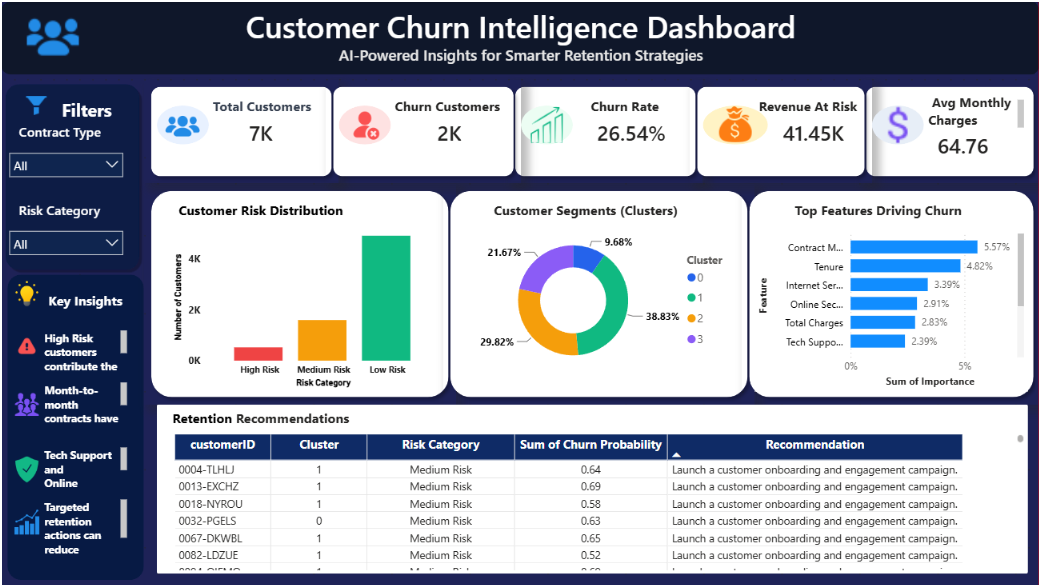

This screenshot's page, from the dashboard's own definition file:
{"tool":"powerbi","page":{"name":"Page 1","canvas":[1280,720],"ordinal":0},"visuals":[{"type":"group","id":"g1","title":"Group 1","box":[0,0,1280,96],"z":0},{"type":"shape","box":[0,0,1280,90],"z":0,"group":"g1"},{"type":"shape","box":[0,96,176,240],"z":0,"group":"g2"},{"type":"textbox","box":[0,0,1280,64],"z":1000,"group":"g1"},{"type":"group","id":"g2","title":"Group 2","box":[0,96,176,240],"z":1000},{"type":"image","box":[17.6,112,52.8,32],"z":1000,"group":"g2"},{"type":"textbox","box":[0,48,1280,48],"z":2000,"group":"g1"},{"type":"textbox","box":[70.4,96,88,80],"z":2000,"group":"g2"},{"type":"group","id":"g3","title":"Group 3","box":[0,336,176,384],"z":2000},{"type":"shape","box":[0,336,176,384],"z":2000,"group":"g3"},{"type":"image","box":[32,0,64,80],"z":3000,"group":"g1"},{"type":"shape","box":[176,96,240,128],"z":3000},{"type":"textbox","box":[17.6,144,140.8,32],"z":3000,"group":"g2"},{"type":"image","box":[16,336,32,48],"z":3000,"group":"g3"},{"type":"shape","box":[1056,96,224,128],"z":4000},{"type":"textbox","box":[17.6,240,140.8,32],"z":4000,"group":"g2"},{"type":"image","box":[16,400,32,48],"z":4000,"group":"g3"},{"type":"shape","box":[624,96,240,128],"z":5000},{"type":"slicer","fields":{"Values":["customer_clean.Contract"]},"box":[0,176,160,48],"z":5000,"group":"g2"},{"type":"image","box":[16,480,32,32],"z":5000,"group":"g3"},{"type":"shape","box":[848,96,224,128],"z":6000},{"type":"slicer","fields":{"Values":["customer_recommendations.Risk Category"]},"box":[0,272,160,48],"z":6000,"group":"g2"},{"type":"image","box":[16,624,32,32],"z":6000,"group":"g3"},{"type":"shape","box":[400,96,240,128],"z":7000},{"type":"image","box":[16,560,32,32],"z":7000,"group":"g3"},{"type":"shape","box":[192,128,64,48],"z":8000},{"type":"textbox","box":[48,352,112,32],"z":8000,"group":"g3"},{"type":"image","box":[192,128,64,48],"z":9000},{"type":"textbox","box":[48,400,112,64],"z":9000,"group":"g3"},{"type":"textbox","box":[256,112,160,48],"z":10000},{"type":"textbox","box":[48,464,112,64],"z":10000,"group":"g3"},{"type":"cardVisual","fields":{"Data":["customer_clean.Total Customers"]},"box":[272,128,96,64],"z":11000},{"type":"textbox","box":[48,608,112,80],"z":11000,"group":"g3"},{"type":"textbox","box":[480,112,144,32],"z":12000},{"type":"textbox","box":[48,544,112,64],"z":12000,"group":"g3"},{"type":"shape","box":[416,128,64,48],"z":13000},{"type":"shape","box":[864,128,80,48],"z":14000},{"type":"shape","box":[1072,128,64,48],"z":15000},{"type":"shape","box":[640,128,64,48],"z":16000},{"type":"image","box":[1072,128,64,48],"z":17000},{"type":"image","box":[416,128,64,48],"z":18000},{"type":"image","box":[640,128,64,48],"z":19000},{"type":"image","box":[880,128,48,48],"z":20000},{"type":"textbox","box":[704,112,128,48],"z":21000},{"type":"textbox","box":[928,112,160,48],"z":22000},{"type":"textbox","box":[1136,112,128,48],"z":23000},{"type":"cardVisual","fields":{"Data":["cluster_summary.Revenue at Risk"]},"box":[928,128,144,64],"z":24000},{"type":"cardVisual","fields":{"Data":["cluster_summary.Churn Rate"]},"box":[704,128,144,64],"z":25000},{"type":"cardVisual","fields":{"Data":["cluster_summary.Average monthly charges"]},"box":[1120,128,128,96],"z":26000},{"type":"cardVisual","fields":{"Data":["cluster_summary.Total Churn Customers"]},"box":[496,128,112,64],"z":27000},{"type":"shape","box":[176,224,384,272],"z":28000},{"type":"shape","box":[544,224,384,272],"z":29000},{"type":"shape","box":[912,224,368,272],"z":30000},{"type":"textbox","box":[208,240,224,32],"z":31000},{"type":"columnChart","fields":{"Category":["customer_recommendations.Risk Category"],"Y":["customer_clean.Total Customers"]},"box":[208,272,336,208],"z":32000},{"type":"donutChart","fields":{"Y":["customer_clean.Total Customers"],"Category":["customer_recommendations.Cluster"]},"box":[560,272,352,192],"z":33000},{"type":"textbox","box":[544,240,352,48],"z":34000},{"type":"textbox","box":[928,240,304,32],"z":35000},{"type":"shape","box":[192,496,1072,208],"z":36000},{"type":"textbox","box":[192,496,256,32],"z":37000},{"type":"tableEx","fields":{"Values":["customer_recommendations.customerID","customer_recommendations.Cluster","customer_recommendations.Risk Category","Sum(customer_recommendations.Churn Probability)","recommendation_summary.Recommendation"]},"box":[208,528,1056,176],"z":38000},{"type":"barChart","fields":{"Category":["feature_importance.Feature"],"Y":["Sum(feature_importance.Importance)"]},"box":[928,272,336,208],"z":39000}]}

Visuals, with their boxes in screenshot pixels (x1, y1, x2, y2), scaled from the page's 1280x720 canvas onto the 1041x587 screenshot:
"Group 1" group: [left=0, top=0, right=1040, bottom=78]
shape: [left=0, top=0, right=1040, bottom=73]
shape: [left=0, top=78, right=143, bottom=274]
textbox: [left=0, top=0, right=1040, bottom=52]
"Group 2" group: [left=0, top=78, right=143, bottom=274]
image: [left=14, top=91, right=57, bottom=117]
textbox: [left=0, top=39, right=1040, bottom=78]
textbox: [left=57, top=78, right=129, bottom=143]
"Group 3" group: [left=0, top=274, right=143, bottom=586]
shape: [left=0, top=274, right=143, bottom=586]
image: [left=26, top=0, right=78, bottom=65]
shape: [left=143, top=78, right=338, bottom=183]
textbox: [left=14, top=117, right=129, bottom=143]
image: [left=13, top=274, right=39, bottom=313]
shape: [left=859, top=78, right=1040, bottom=183]
textbox: [left=14, top=196, right=129, bottom=222]
image: [left=13, top=326, right=39, bottom=365]
shape: [left=507, top=78, right=703, bottom=183]
slicer - customer_clean.Contract: [left=0, top=143, right=130, bottom=183]
image: [left=13, top=391, right=39, bottom=417]
shape: [left=690, top=78, right=872, bottom=183]
slicer - customer_recommendations.Risk Category: [left=0, top=222, right=130, bottom=261]
image: [left=13, top=509, right=39, bottom=535]
shape: [left=325, top=78, right=520, bottom=183]
image: [left=13, top=457, right=39, bottom=483]
shape: [left=156, top=104, right=208, bottom=143]
textbox: [left=39, top=287, right=130, bottom=313]
image: [left=156, top=104, right=208, bottom=143]
textbox: [left=39, top=326, right=130, bottom=378]
textbox: [left=208, top=91, right=338, bottom=130]
textbox: [left=39, top=378, right=130, bottom=430]
cardVisual - customer_clean.Total Customers: [left=221, top=104, right=299, bottom=157]
textbox: [left=39, top=496, right=130, bottom=561]
textbox: [left=390, top=91, right=507, bottom=117]
textbox: [left=39, top=444, right=130, bottom=496]
shape: [left=338, top=104, right=390, bottom=143]
shape: [left=703, top=104, right=768, bottom=143]
shape: [left=872, top=104, right=924, bottom=143]
shape: [left=520, top=104, right=573, bottom=143]
image: [left=872, top=104, right=924, bottom=143]
image: [left=338, top=104, right=390, bottom=143]
image: [left=520, top=104, right=573, bottom=143]
image: [left=716, top=104, right=755, bottom=143]
textbox: [left=573, top=91, right=677, bottom=130]
textbox: [left=755, top=91, right=885, bottom=130]
textbox: [left=924, top=91, right=1028, bottom=130]
cardVisual - cluster_summary.Revenue at Risk: [left=755, top=104, right=872, bottom=157]
cardVisual - cluster_summary.Churn Rate: [left=573, top=104, right=690, bottom=157]
cardVisual - cluster_summary.Average monthly charges: [left=911, top=104, right=1015, bottom=183]
cardVisual - cluster_summary.Total Churn Customers: [left=403, top=104, right=494, bottom=157]
shape: [left=143, top=183, right=455, bottom=404]
shape: [left=442, top=183, right=755, bottom=404]
shape: [left=742, top=183, right=1040, bottom=404]
textbox: [left=169, top=196, right=351, bottom=222]
columnChart - customer_recommendations.Risk Category x customer_clean.Total Customers: [left=169, top=222, right=442, bottom=391]
donutChart - customer_clean.Total Customers x customer_recommendations.Cluster: [left=455, top=222, right=742, bottom=378]
textbox: [left=442, top=196, right=729, bottom=235]
textbox: [left=755, top=196, right=1002, bottom=222]
shape: [left=156, top=404, right=1028, bottom=574]
textbox: [left=156, top=404, right=364, bottom=430]
tableEx - customer_recommendations.customerID x customer_recommendations.Cluster: [left=169, top=430, right=1028, bottom=574]
barChart - feature_importance.Feature x Sum(feature_importance.Importance): [left=755, top=222, right=1028, bottom=391]
